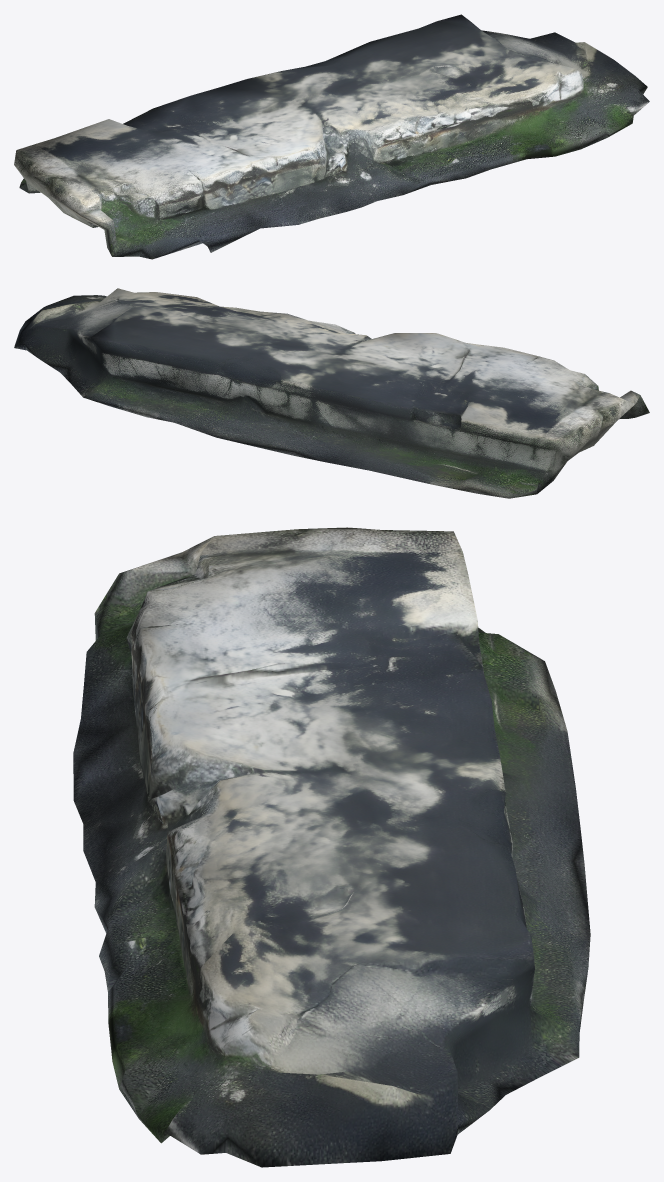
The model's file is collapsed_3.glb.
The picture shows the model from 3 angles, top to bottom: view 1: azimuth 30°, elevation 25°; view 2: azimuth 150°, elevation 25°; view 3: azimuth 270°, elevation 25°; orthographic projection. The views are drawn at different scales.
Parts seen in each view (by area): view 1: Mesh1.0; view 2: Mesh1.0; view 3: Mesh1.0.
Part boxes in pixels (<box>): Mesh1.0: <box>14,14,649,259</box>; Mesh1.0: <box>14,288,649,498</box>; Mesh1.0: <box>73,527,590,1167</box>.
Size of the model in its own units: 1.91 by 0.2029 by 0.7393.
1 material, 1 textured.
